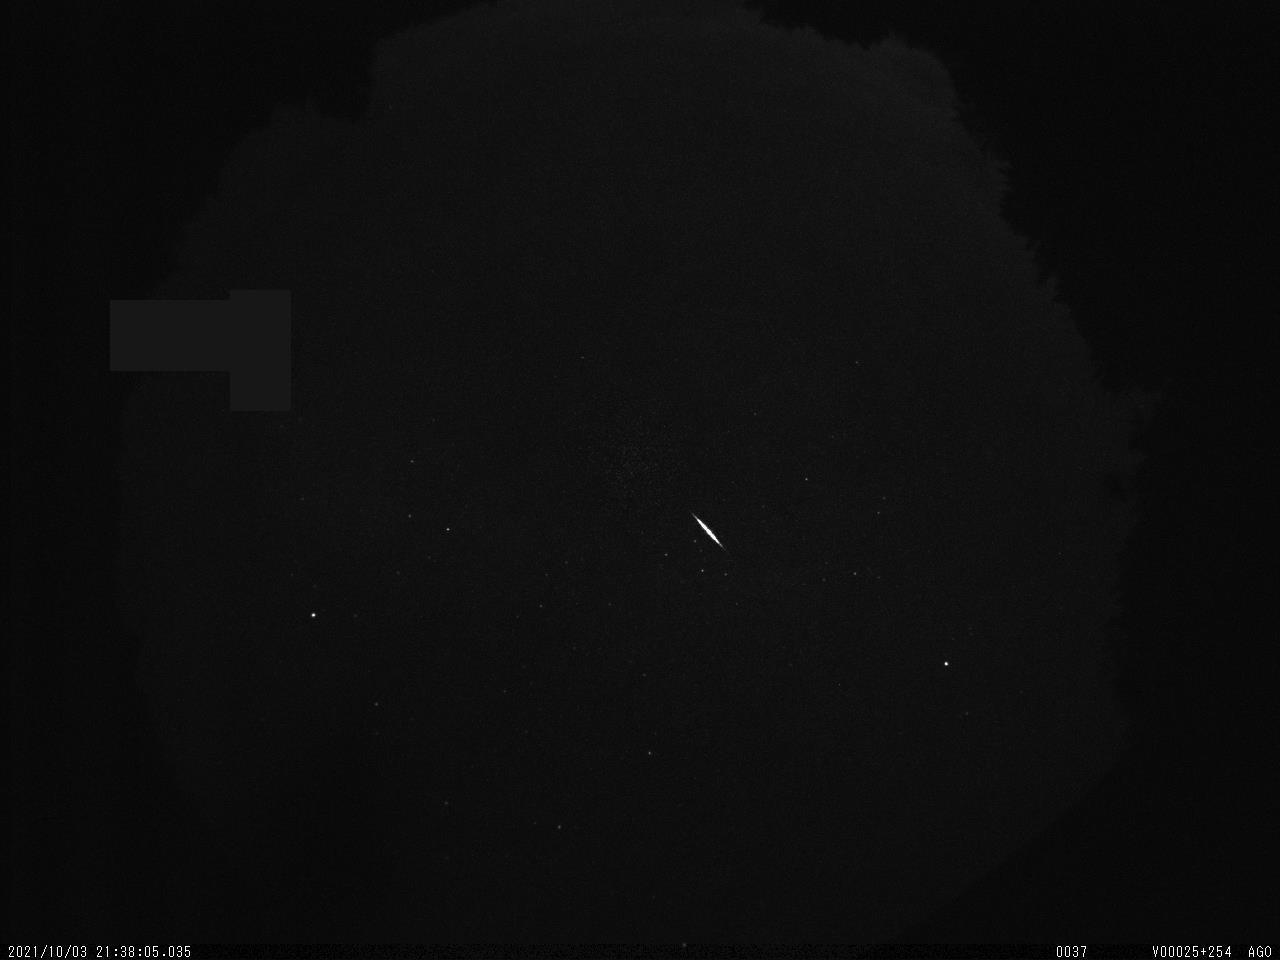meteor: (674, 504, 746, 574)
